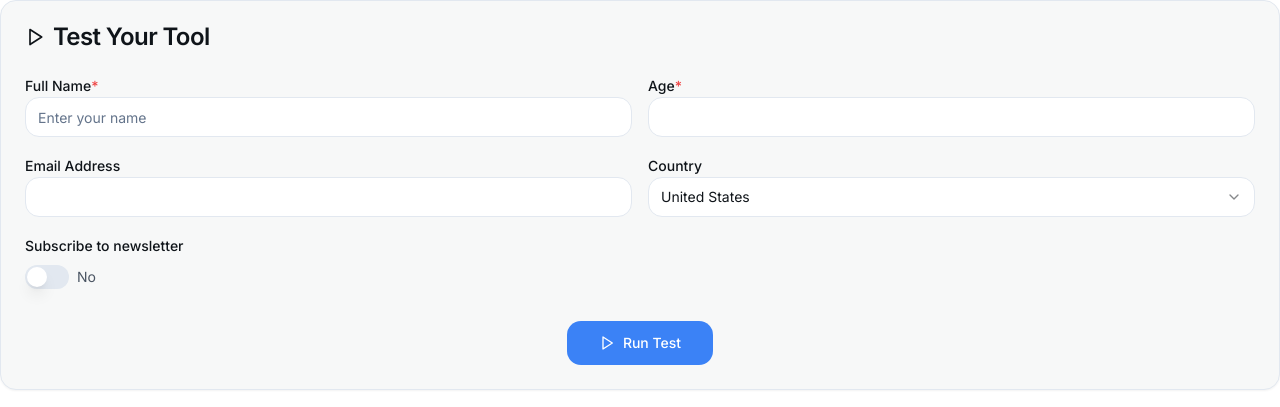
Test case: ToolTestRunner › Test Execution › should show loading state during test execution
The width and height of the screenshot is (1280, 407).
# Fill required fields
Step 1. Type "John Doe" into the field with placeholder "Enter your name" → point(328, 117), box x1=25 y1=97 x2=632 y2=137
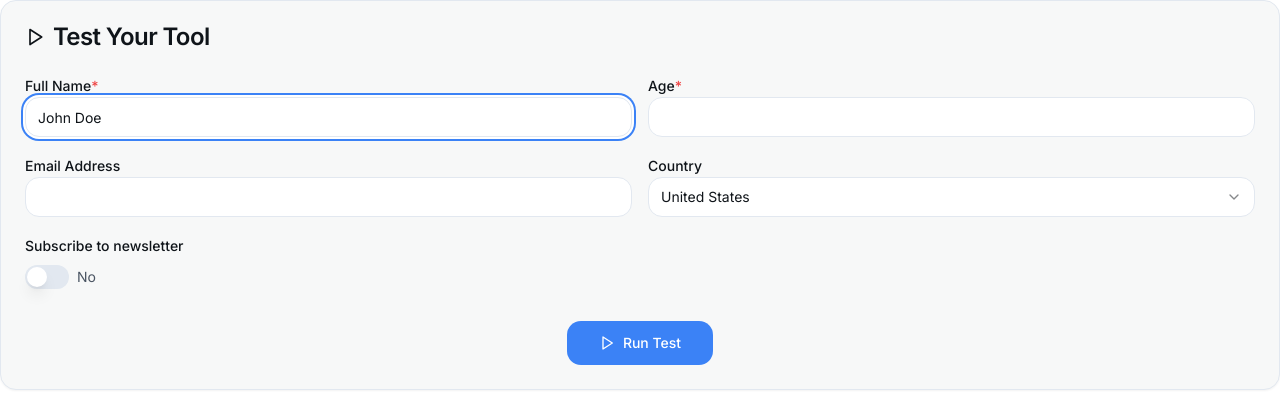
Step 2. Type "25" into the number field → point(952, 117), box x1=648 y1=97 x2=1255 y2=137
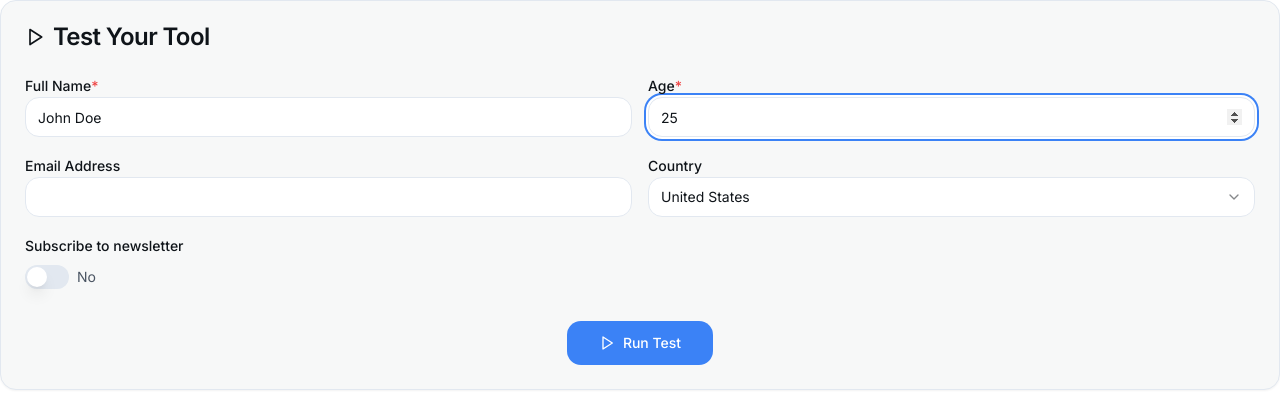
Step 3. Click the button "Run Test" → point(640, 343), box x1=567 y1=321 x2=713 y2=365
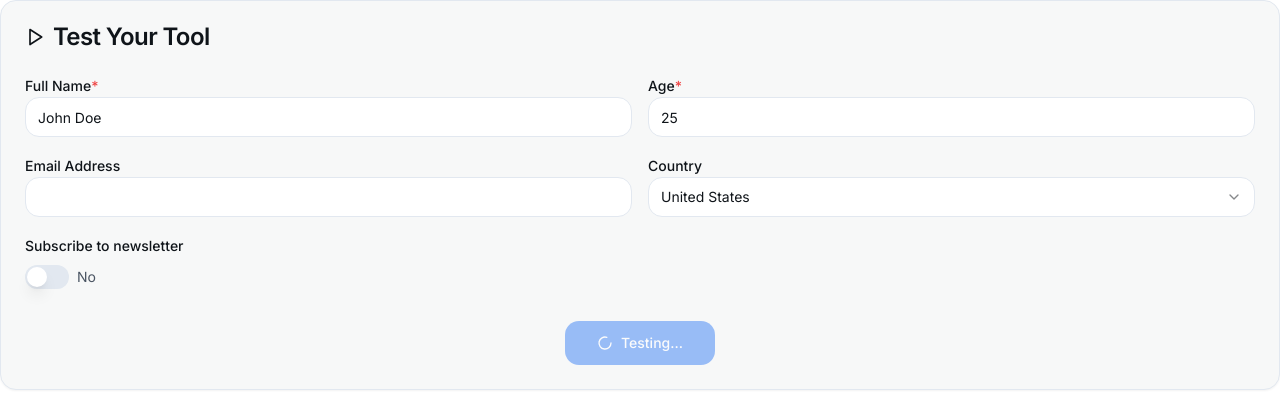
Now the button "Testing..." is disabled, box x1=565 y1=321 x2=715 y2=365
